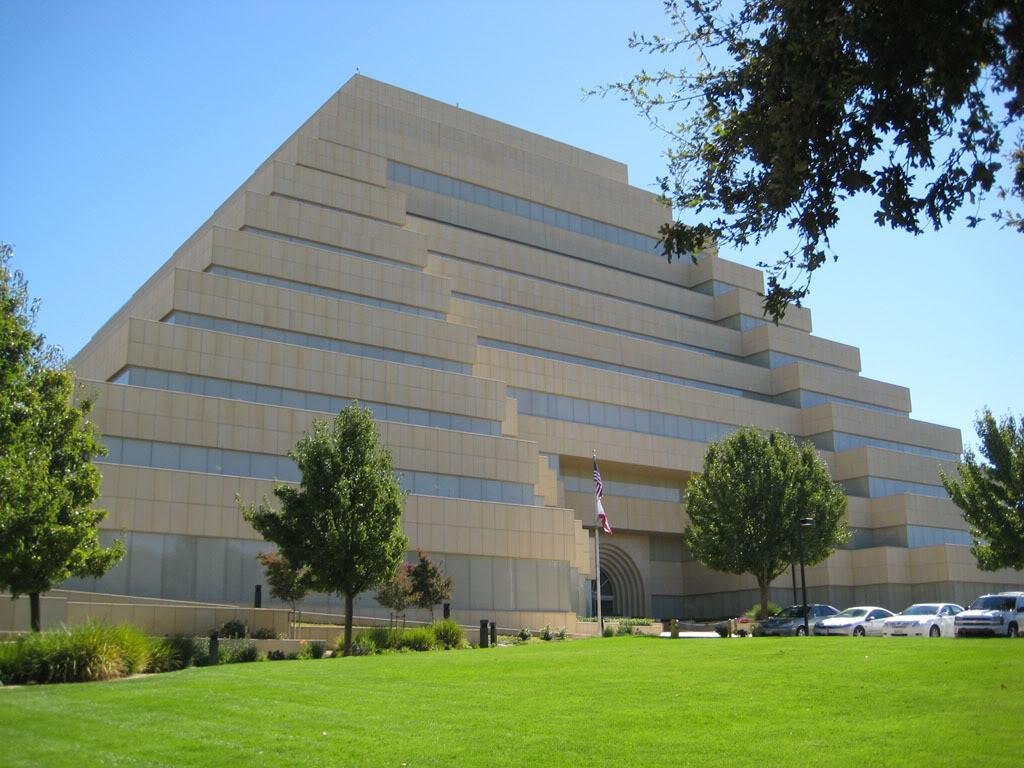affected: (19, 33, 998, 644)
